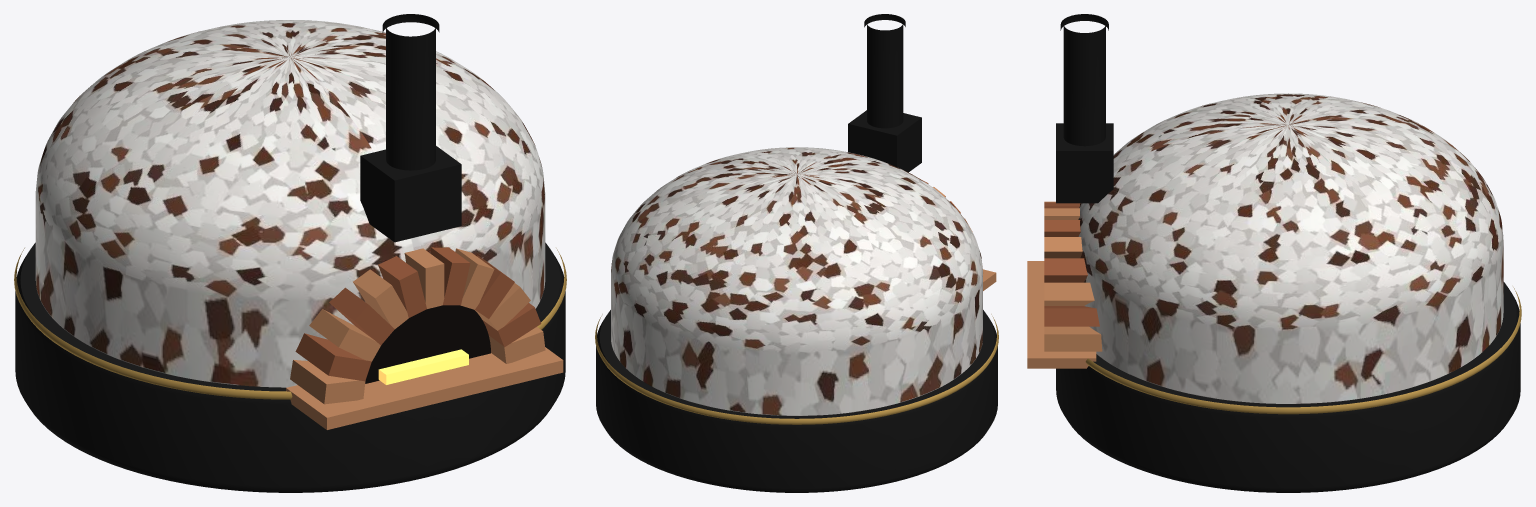
Rendered from horno-blanco.glb.
The picture shows the model from 3 angles, left to right: view 1: azimuth 30°, elevation 25°; view 2: azimuth 150°, elevation 25°; view 3: azimuth 270°, elevation 25°; orthographic projection. The views are drawn at different scales.
Parts seen in each view (by area): view 1: cupula, base, arco, chimenea, arco-oscuro, boca, filete, fuego; view 2: cupula, base, chimenea, filete; view 3: cupula, base, chimenea, arco, filete, arco-oscuro.
Part boxes in pixels (<box>): cupula: <box>35,20,545,387</box>; base: <box>15,242,565,492</box>; arco: <box>286,248,563,429</box>; chimenea: <box>360,14,461,242</box>; arco-oscuro: <box>295,247,541,381</box>; boca: <box>365,305,490,383</box>; filete: <box>14,248,566,399</box>; fuego: <box>378,349,468,384</box>; cupula: <box>611,147,982,415</box>; base: <box>596,310,997,492</box>; chimenea: <box>848,14,921,172</box>; filete: <box>595,314,998,424</box>; cupula: <box>1078,93,1503,403</box>; base: <box>1056,282,1520,492</box>; chimenea: <box>1056,14,1113,203</box>; arco: <box>1027,201,1102,368</box>; filete: <box>1085,287,1521,414</box>; arco-oscuro: <box>1044,202,1099,326</box>.
Size of the model in its own units: 2.43 by 2.14 by 2.58.
Materials: 8 (1 with a texture image).
